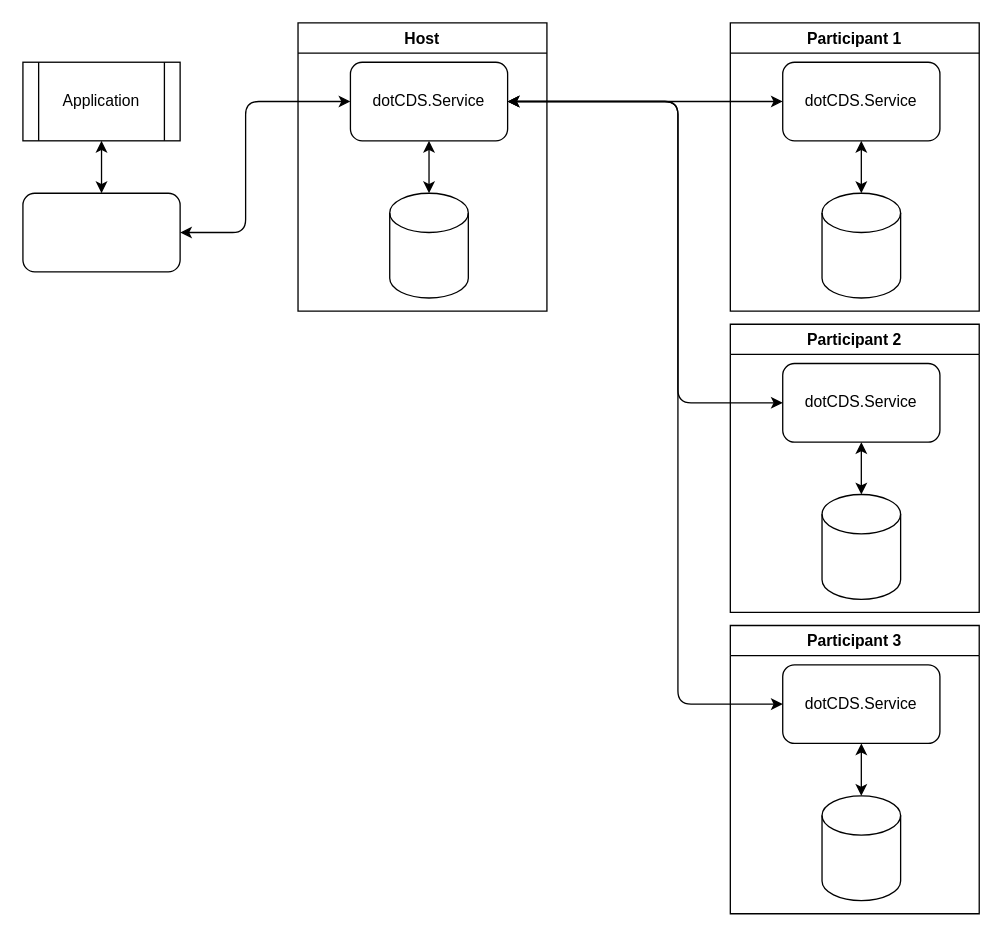
The diagram is 1002 pixels wide and 937 high, and some of its shapes have lost their labels. The shapes that lost their labels are listed below. From the top down, each one's centre as x and y in pixels, then its label:
point 101,232: dotCDS.Client
point 428,245: Database
point 861,245: SQL Server
point 861,546: Postgres
point 861,848: Sqlite
